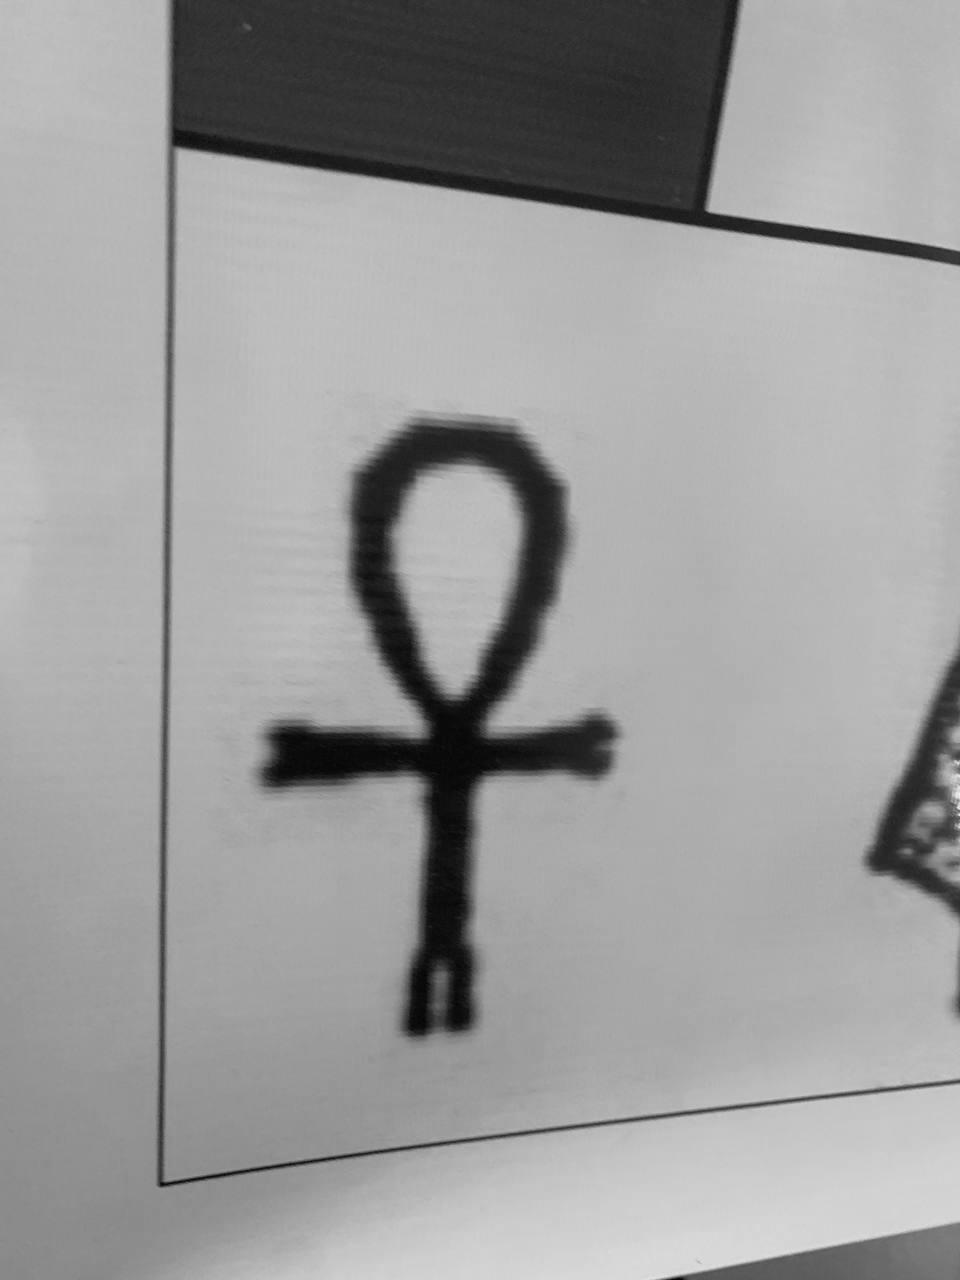Ankh: (226, 404, 642, 1066)
